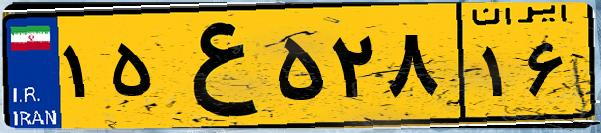1: (57, 26, 110, 100), (475, 38, 525, 113)
2: (330, 28, 385, 110)
5: (270, 28, 330, 110), (110, 28, 158, 98)
6: (525, 38, 570, 115)
8: (385, 28, 445, 110)
ع: (158, 12, 270, 120)
